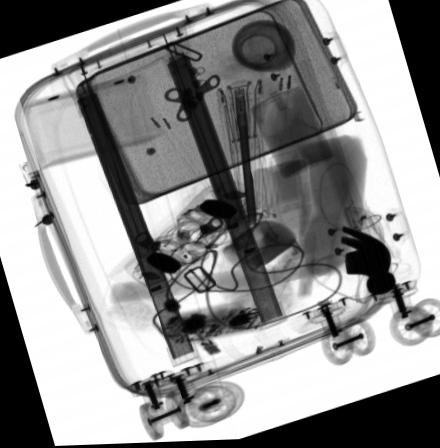Hammer: (107, 228, 396, 305)
